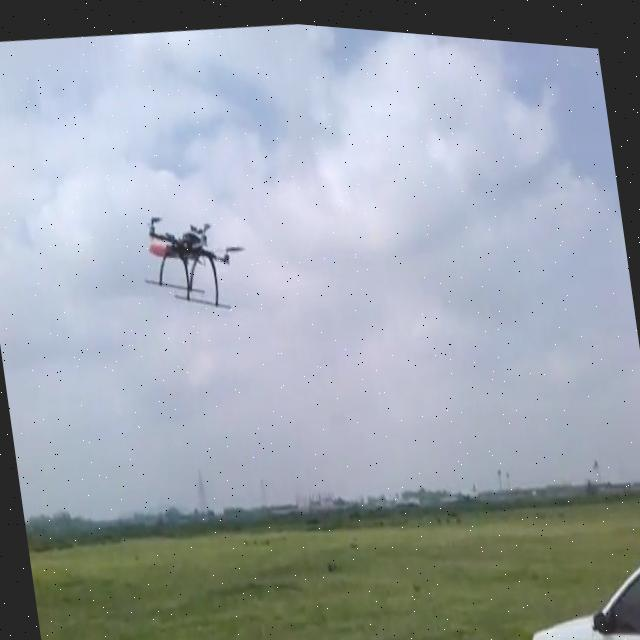drone: (132, 194, 255, 319)
